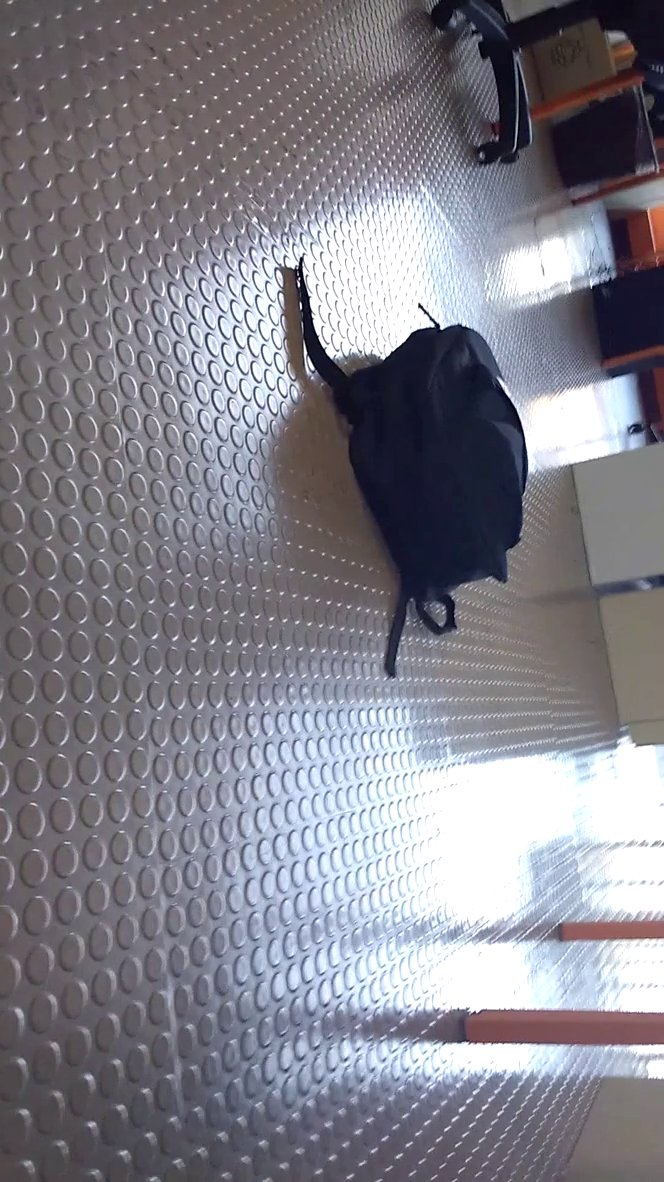bag: (282, 250, 541, 684)
bin: (547, 73, 663, 196)
